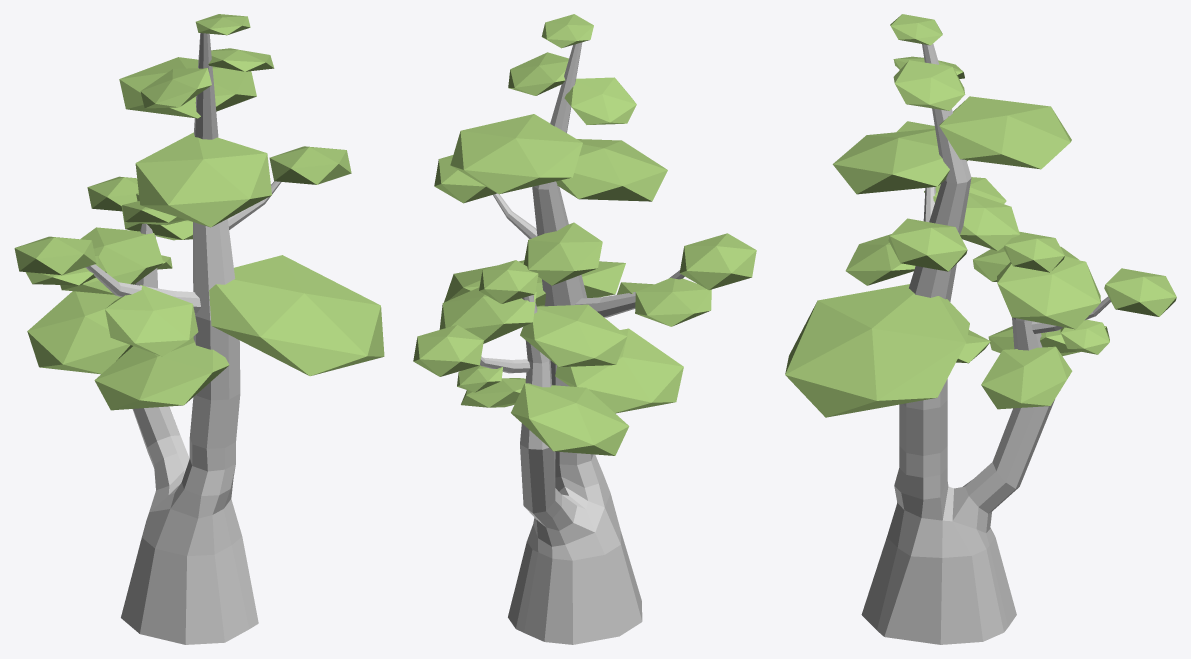
File: treeB1blend.fbx
3 renders of one model, left to right at view 1: azimuth 30°, elevation 25°; view 2: azimuth 150°, elevation 25°; view 3: azimuth 270°, elevation 25°, orthographic. The views are drawn at different scales.
Visible parts, largest first — view 1: treeB1; view 2: treeB1; view 3: treeB1.
Part boxes in pixels (x1,y1,x2,y2): treeB1: [14, 14, 384, 644]; treeB1: [413, 14, 756, 644]; treeB1: [785, 14, 1176, 644].
Size of the model in its own units: 1097 by 1868 by 1098.
